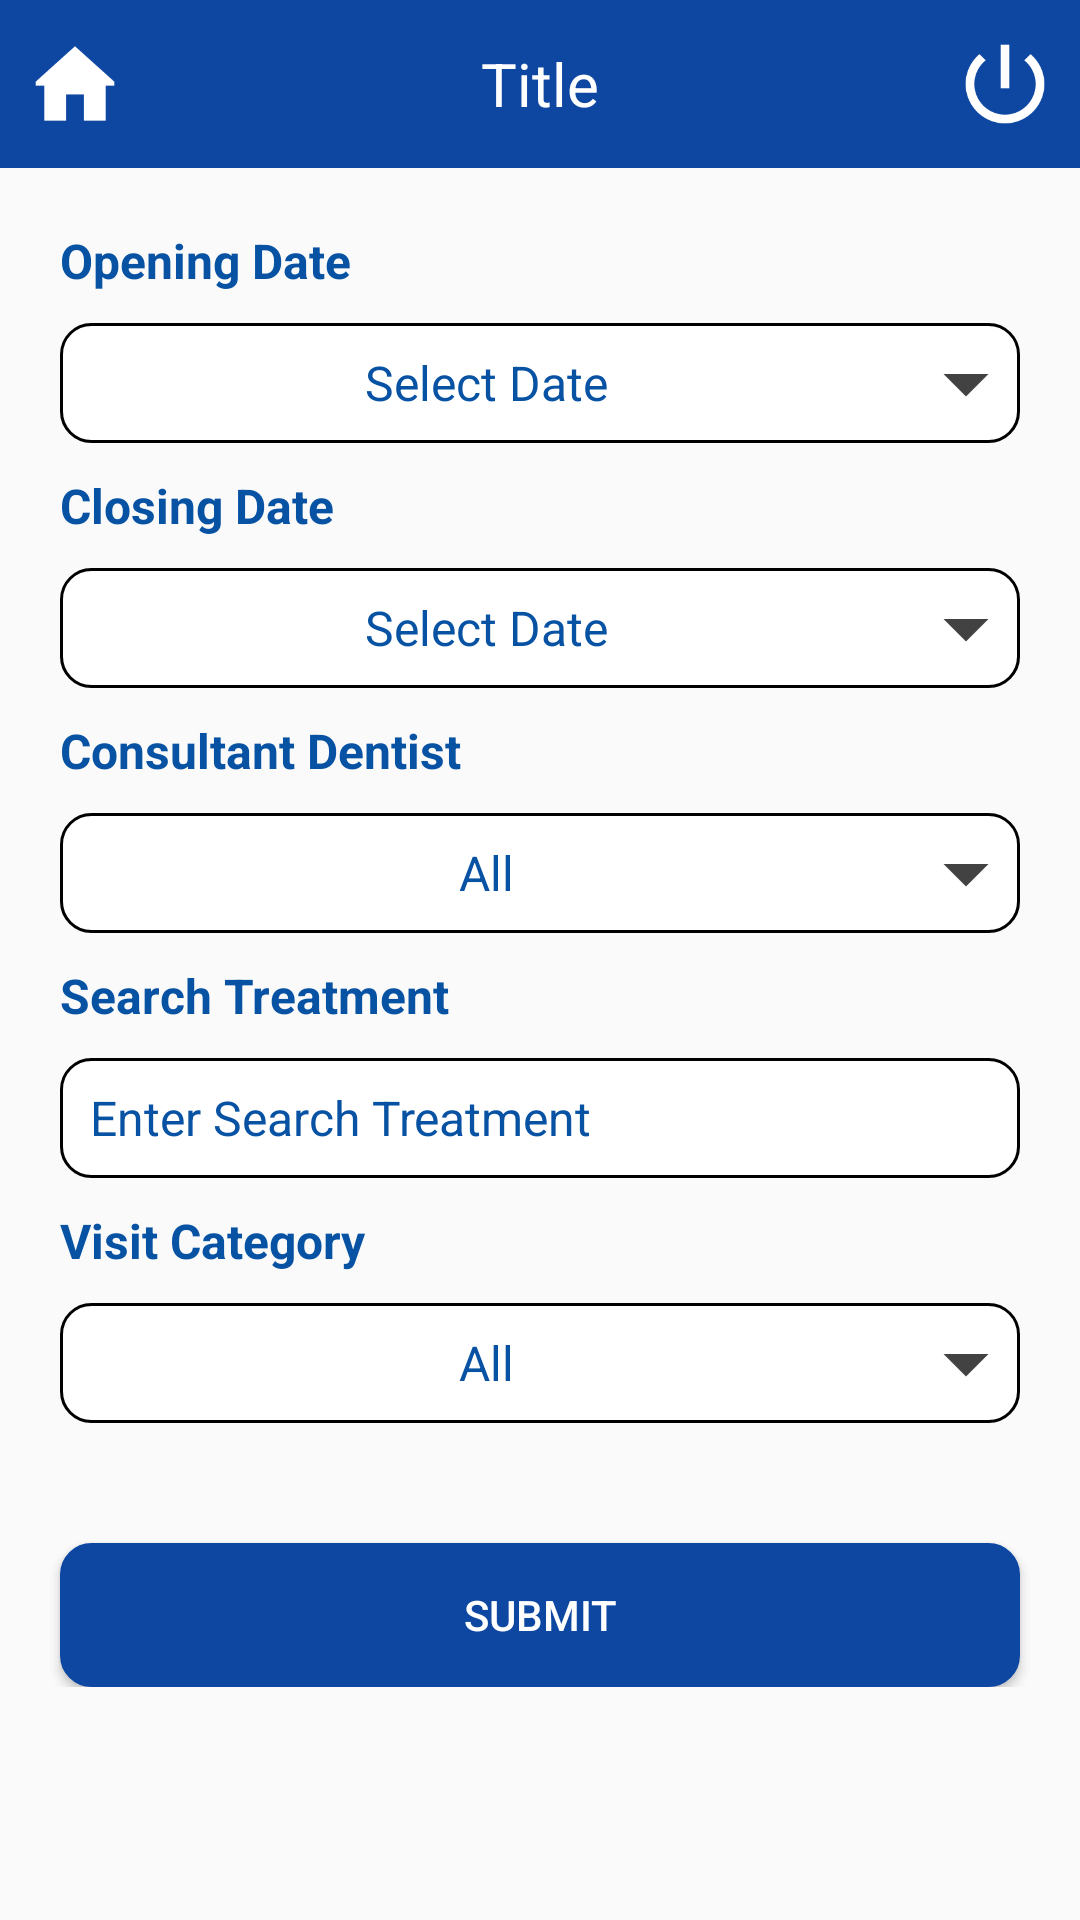

Locate icon controls on the screen. Image size 1080px x 1920px, boxes as (x1, y1, x2, y2).
home: (35, 46, 115, 121)
